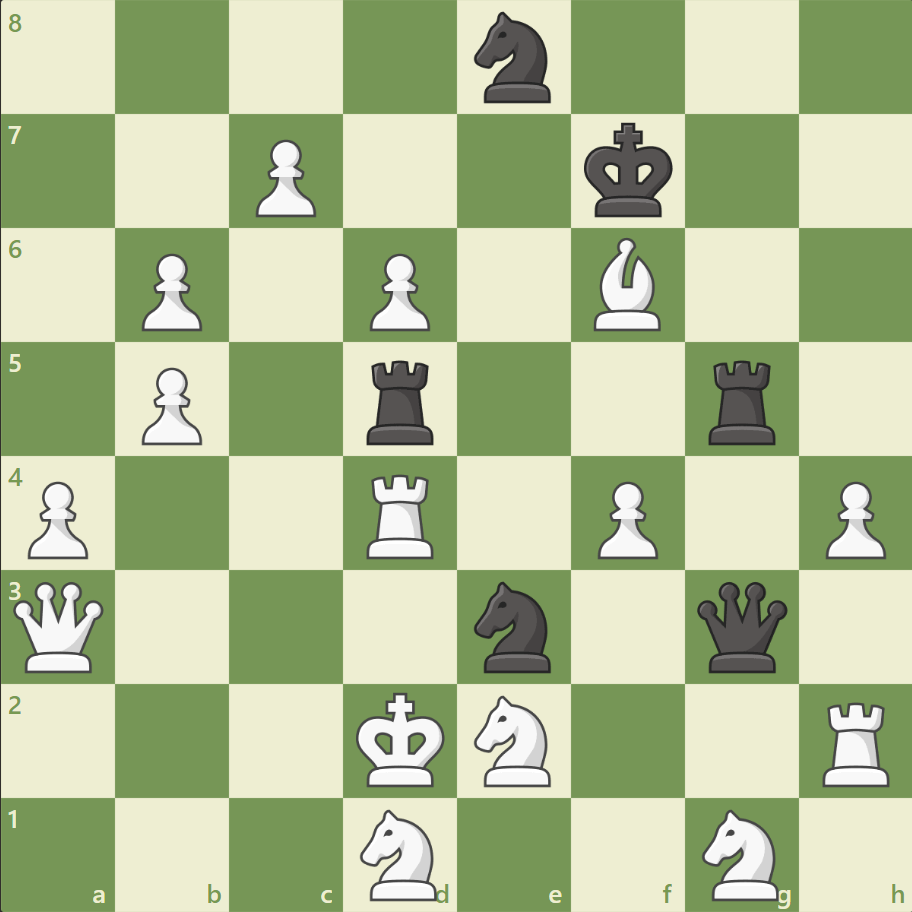B: (585, 233, 669, 336)
K: (351, 685, 451, 793)
N: (351, 802, 449, 904), (465, 688, 562, 791), (692, 802, 789, 904)
P: (247, 132, 322, 223), (133, 246, 208, 337), (133, 359, 208, 450), (20, 473, 95, 564), (361, 246, 435, 337), (588, 473, 662, 564), (815, 473, 889, 564)
Q: (10, 576, 109, 676)
R: (814, 693, 897, 790), (360, 466, 442, 563)
k: (579, 117, 679, 225)
n: (465, 7, 562, 110), (465, 575, 562, 677)
q: (691, 576, 790, 676)
r: (700, 352, 783, 449), (360, 352, 442, 449)
